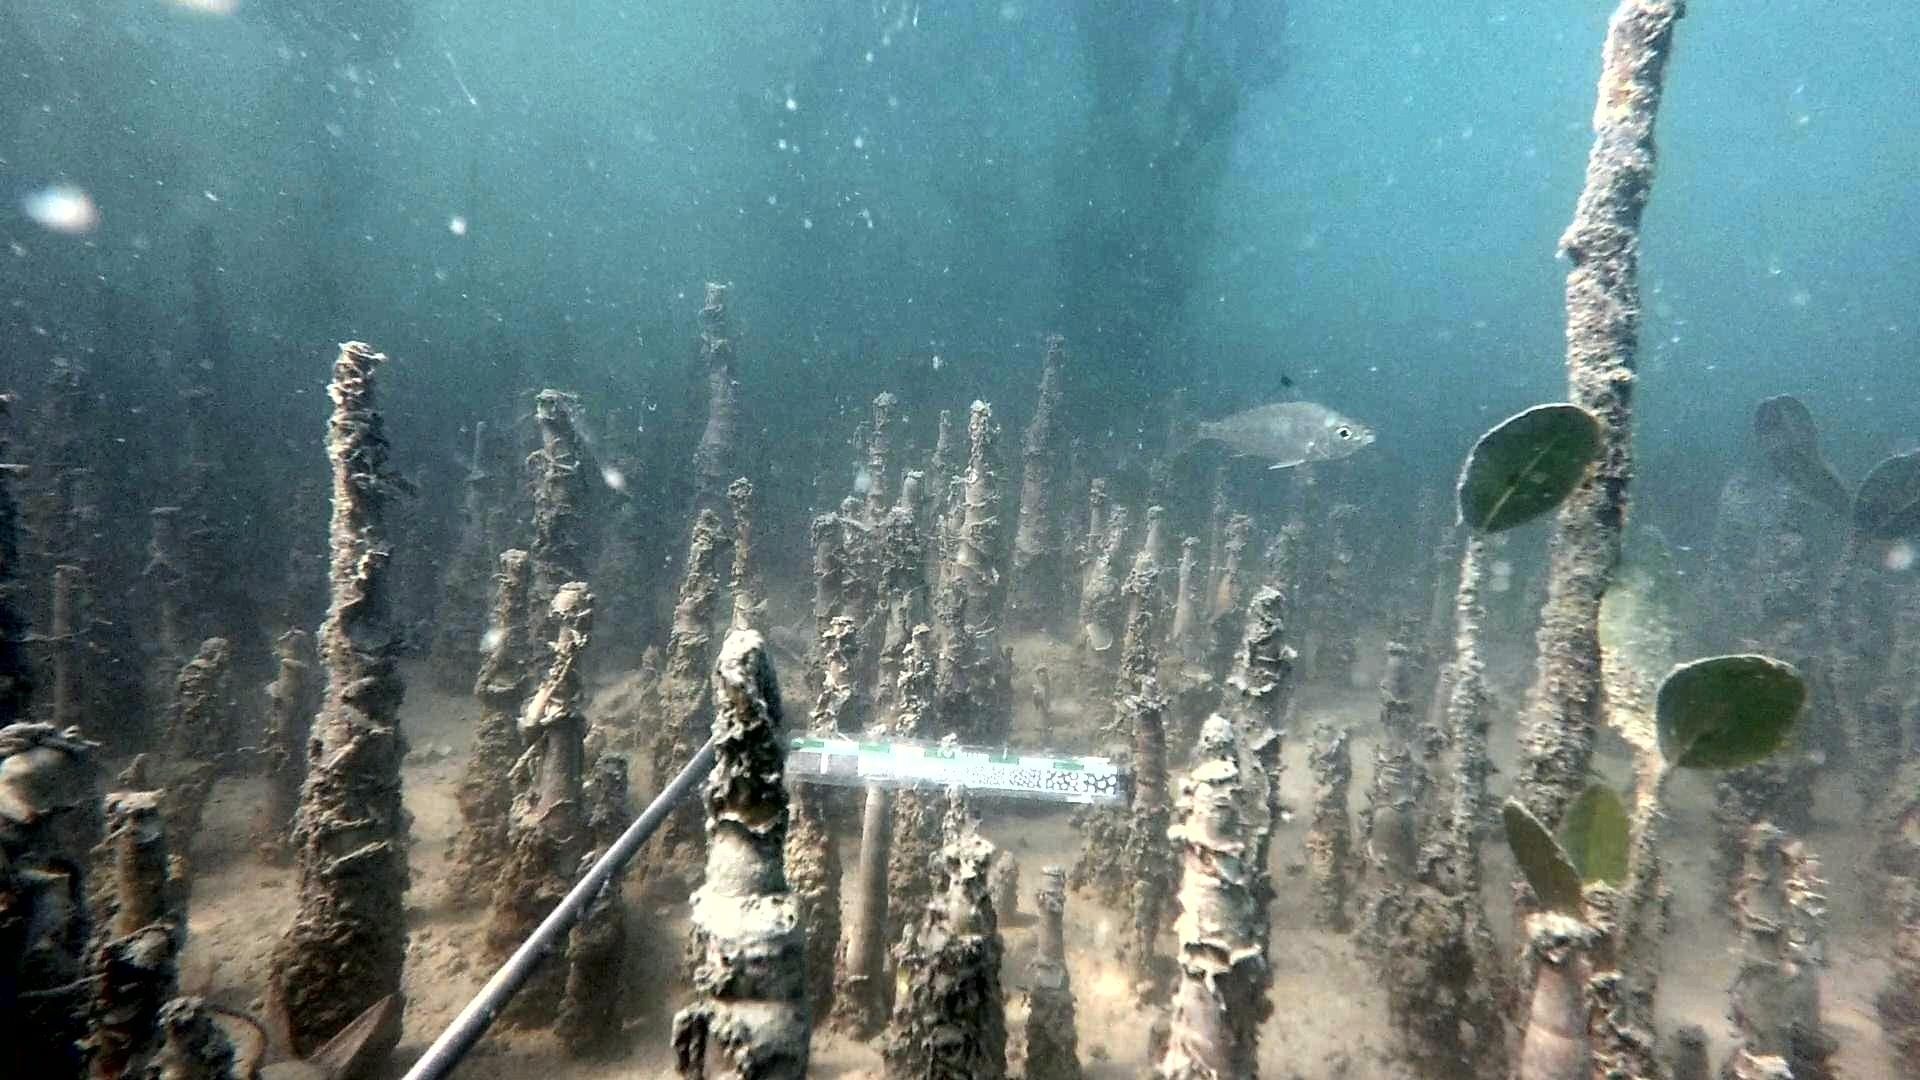gerres: (1156, 369, 1381, 473)
